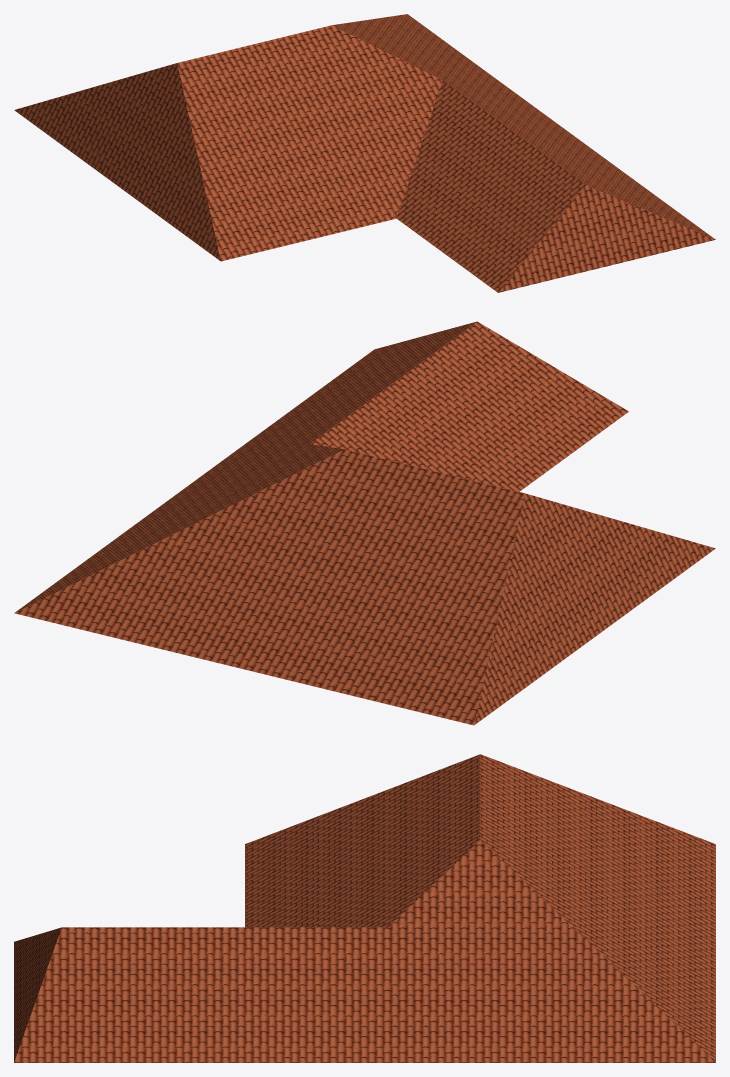
The model's file is telhado44a.dae.
3 renders of one model, top to bottom at view 1: azimuth 30°, elevation 25°; view 2: azimuth 150°, elevation 25°; view 3: azimuth 270°, elevation 25°, orthographic. The views are drawn at different scales.
Visible parts, largest first — view 1: SketchUp; view 2: SketchUp; view 3: SketchUp.
Part boxes in pixels (<box>): SketchUp: <box>14,14,715,292</box>; SketchUp: <box>14,321,715,725</box>; SketchUp: <box>14,754,715,1062</box>.
Bounding box in the file's own units: 441 × 598 × 116.
2 materials, 1 textured.
